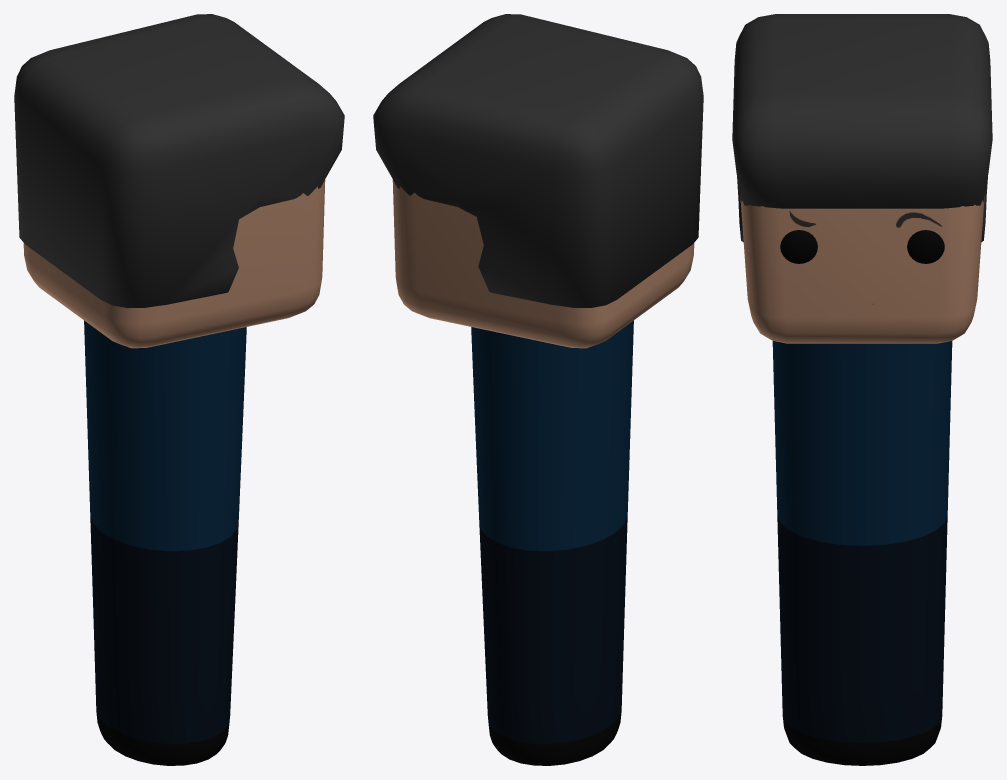
File: Adult.FBX
3 views of the same model, side by side, from view 1: azimuth 30°, elevation 25°; view 2: azimuth 150°, elevation 25°; view 3: azimuth 270°, elevation 25° (orthographic). The views are drawn at different scales.
Visible parts, largest first — view 1: Teen001; view 2: Teen001; view 3: Teen001.
Boxes of the visible parts, left/top/right/bottom form: Teen001: left=14, top=14, right=344, bottom=765; Teen001: left=373, top=14, right=703, bottom=765; Teen001: left=732, top=14, right=992, bottom=765.
Size of the model in its own units: 66.07 by 181 by 61.66.
